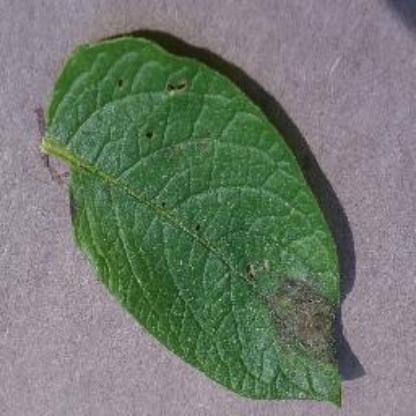Late-Blight: (29, 29, 376, 409)
